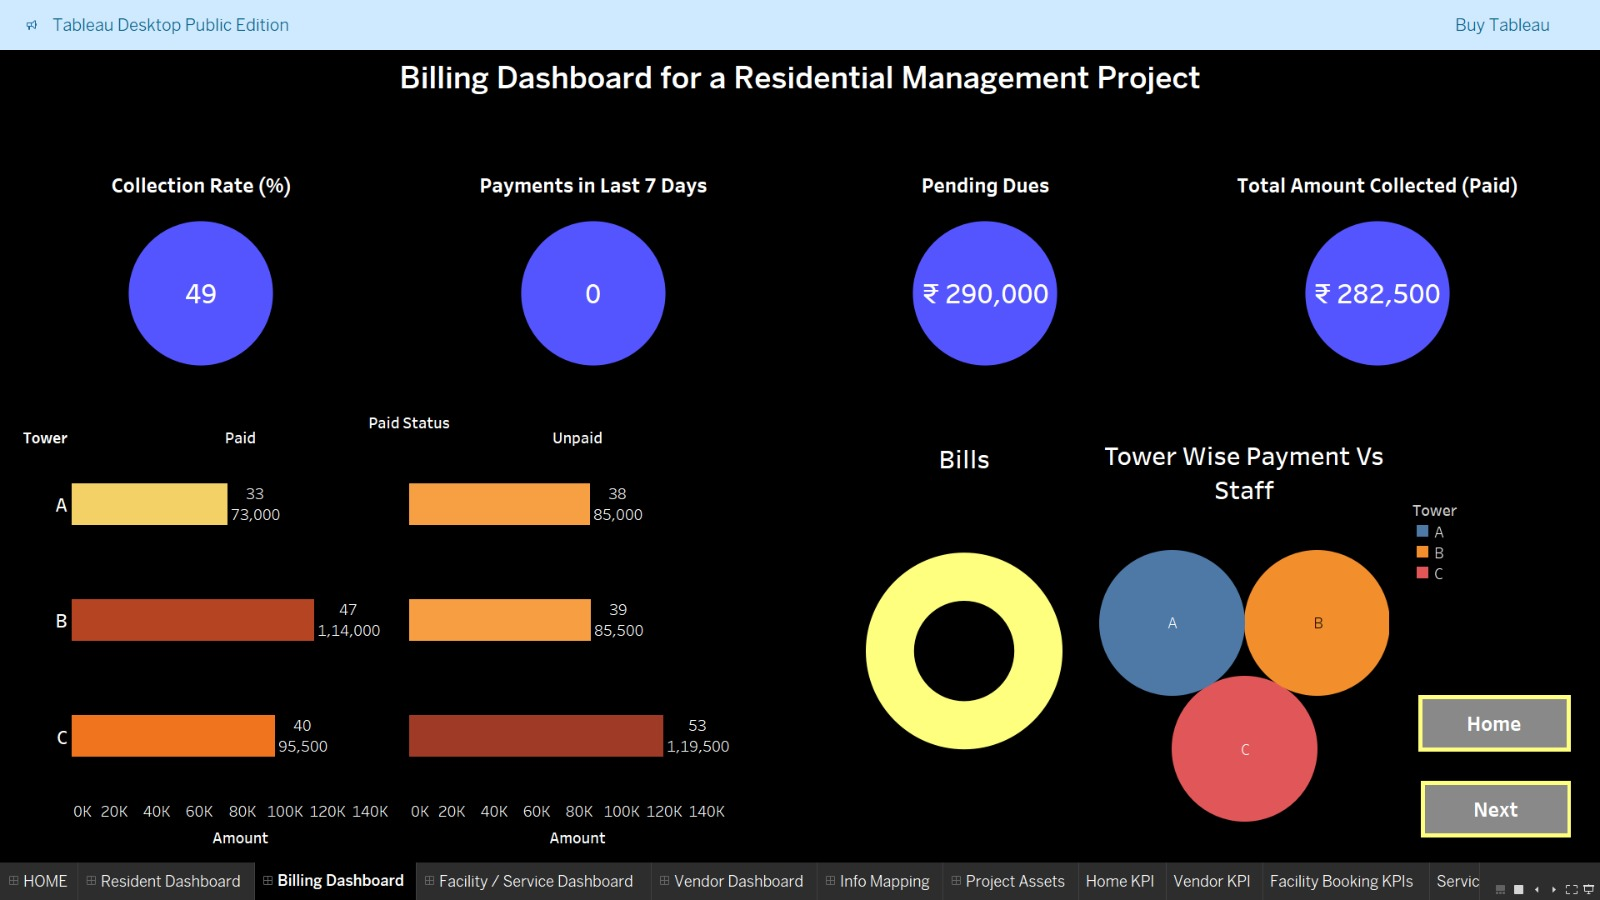

This screenshot's page, from the dashboard's own definition file:
{"tool":"tableau","page":{"name":"Billing Dashboard ","canvas":[1000,1000],"units":"permille","ordinal":0},"visuals":[{"type":"title","box":[4.2,8.2,991.7,53.3]},{"type":"worksheet","title":"Billing KPI","mark":"Shape","box":[3.1,136.7,980.1,268.1]},{"type":"worksheet","title":"Bills Table","mark":"Bar","rows":["Tower"],"cols":["Paid Status","Amount"],"box":[3.1,450.4,463.2,538.9]},{"type":"worksheet","title":"Bills vs Due","mark":"Pie","rows":["Amount","Amount"],"box":[523.1,473.2,159.6,508]},{"type":"worksheet","title":"Tower wise","mark":"Circle","box":[686.4,473.2,182,520.1]},{"type":"legend","title":"Tower wise","param":"[federated.0xh9awr083edvq17bpfsy1d34hw0].[none:Tower:nk]","box":[880.9,548.3,99.8,111.8]},{"type":"dashboard-object","box":[886.5,793.6,95.4,69.7]},{"type":"dashboard-object","box":[887.8,899.5,94.1,69.7]}]}

Visuals, with their boxes on the dashboard's canvas, which has no fixed pixel size, in thousandths of its width and height (x1, y1, x2, y2). These are canvas units, not pixel positions in the 1600x900 screenshot, which may show the page scaled, cropped or inside an application window:
title: box=[4, 8, 996, 62]
"Billing KPI" worksheet (Shape marks): box=[3, 137, 983, 405]
"Bills Table" worksheet (Bar marks): box=[3, 450, 466, 989]
"Bills vs Due" worksheet (Pie marks): box=[523, 473, 683, 981]
"Tower wise" worksheet (Circle marks): box=[686, 473, 868, 993]
"Tower wise" legend: box=[881, 548, 981, 660]
dashboard-object: box=[886, 794, 982, 863]
dashboard-object: box=[888, 900, 982, 969]
